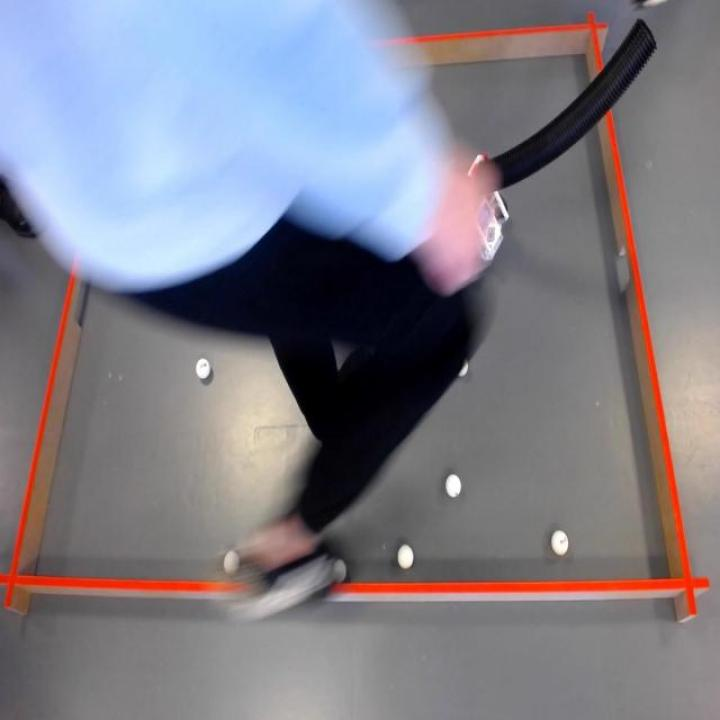white: (194, 354, 216, 388), (549, 527, 570, 559), (394, 544, 416, 572), (223, 549, 243, 575), (444, 472, 462, 500)
